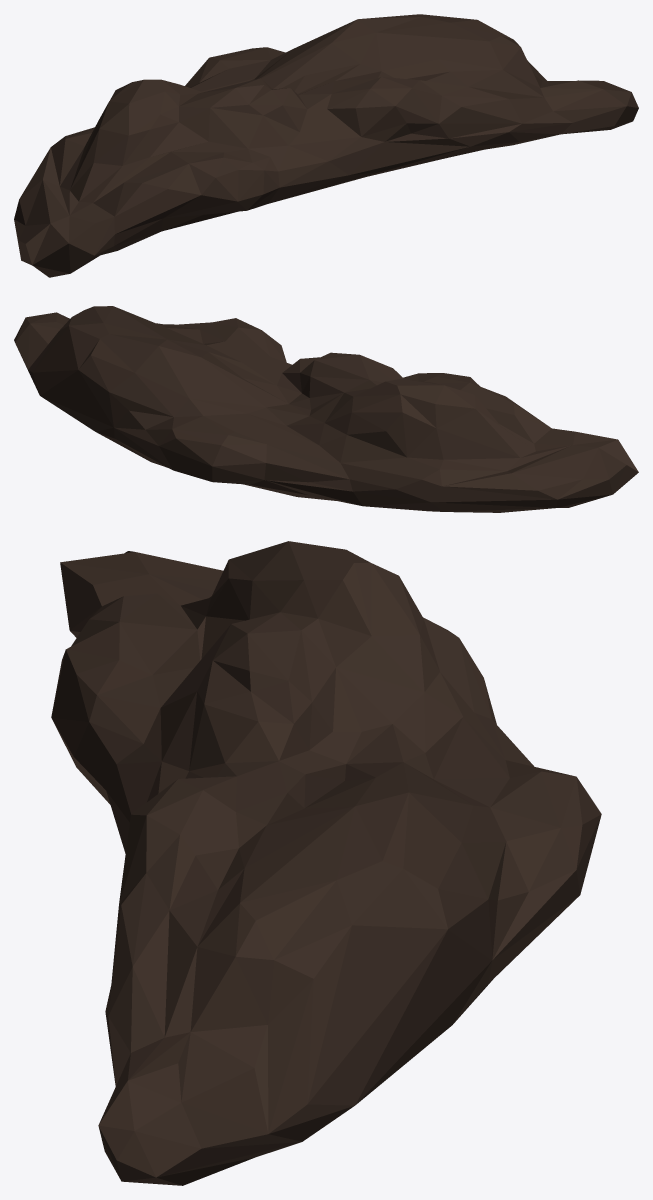
The model's file is synty-prop-cloud-03.gltf.
3 views of the same model, one above another, from view 1: azimuth 30°, elevation 25°; view 2: azimuth 150°, elevation 25°; view 3: azimuth 270°, elevation 25° (orthographic). The views are drawn at different scales.
Visible parts, largest first — view 1: SM_Prop_Cloud_03; view 2: SM_Prop_Cloud_03; view 3: SM_Prop_Cloud_03.
Part boxes in pixels (left/top/right/bottom): SM_Prop_Cloud_03: left=14, top=14, right=638, bottom=277; SM_Prop_Cloud_03: left=14, top=306, right=638, bottom=512; SM_Prop_Cloud_03: left=51, top=541, right=601, bottom=1185.
Bounding box in the file's own units: 7.9 × 1.49 × 3.09.
Materials: 1 (1 with a texture image).
